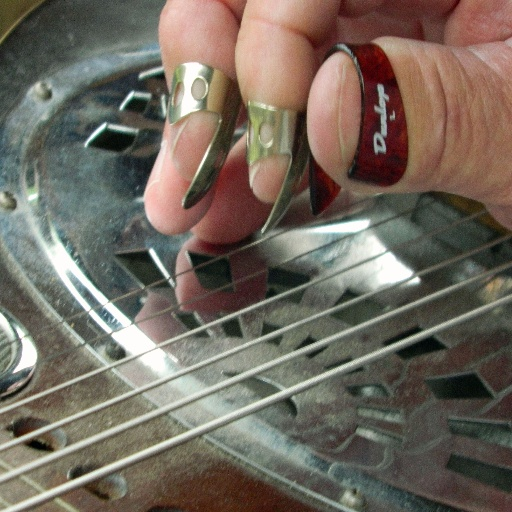hand: (141, 0, 511, 244)
